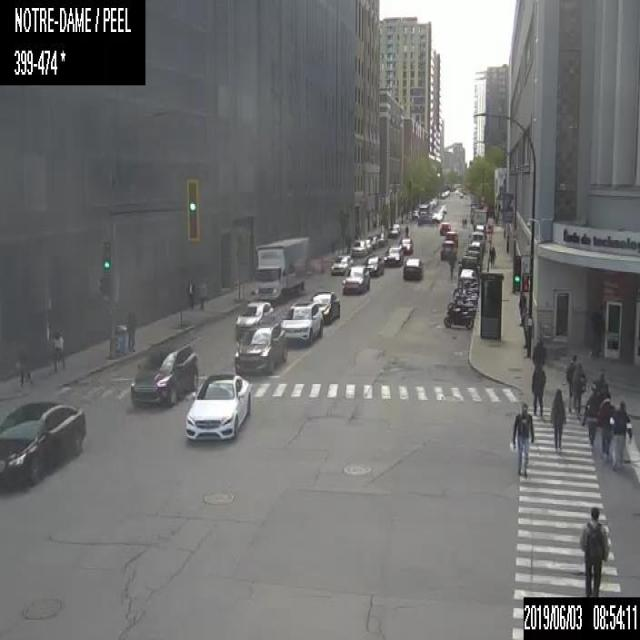pedestrian: (580, 502, 608, 594), (511, 402, 533, 478), (609, 399, 631, 471), (549, 386, 567, 451), (597, 394, 614, 456), (580, 385, 598, 443), (15, 338, 31, 387), (531, 360, 545, 416), (572, 361, 586, 416), (566, 354, 578, 411), (52, 328, 64, 372), (593, 372, 609, 402), (532, 337, 546, 369), (126, 307, 136, 349), (198, 274, 206, 310), (522, 308, 528, 347), (187, 275, 194, 308), (518, 290, 524, 324), (490, 245, 496, 265), (448, 256, 453, 278), (404, 224, 408, 237), (464, 217, 466, 227), (461, 218, 463, 226)
vehicle: (0, 399, 85, 489), (185, 372, 251, 440), (130, 341, 197, 404), (253, 236, 309, 302), (233, 321, 286, 373), (279, 300, 322, 342), (235, 298, 274, 326), (311, 291, 340, 322), (342, 264, 369, 294), (443, 305, 473, 328), (446, 294, 476, 314), (402, 256, 422, 280), (457, 267, 478, 289), (331, 253, 352, 274), (452, 285, 478, 301), (384, 245, 404, 265), (458, 255, 478, 275), (468, 230, 486, 250), (366, 255, 383, 275), (472, 208, 486, 230), (464, 244, 481, 261), (440, 240, 456, 258), (352, 239, 366, 256), (399, 237, 413, 253), (468, 240, 481, 255), (444, 231, 457, 246), (417, 213, 434, 224), (376, 231, 386, 244), (440, 221, 450, 234), (363, 238, 372, 252), (368, 235, 377, 248), (418, 203, 428, 214), (388, 225, 398, 236), (431, 212, 440, 222), (411, 208, 420, 218), (392, 222, 400, 232), (475, 224, 484, 232), (439, 204, 446, 212), (440, 192, 444, 198), (443, 191, 447, 196), (446, 189, 449, 194), (454, 189, 457, 194), (459, 192, 462, 196)
